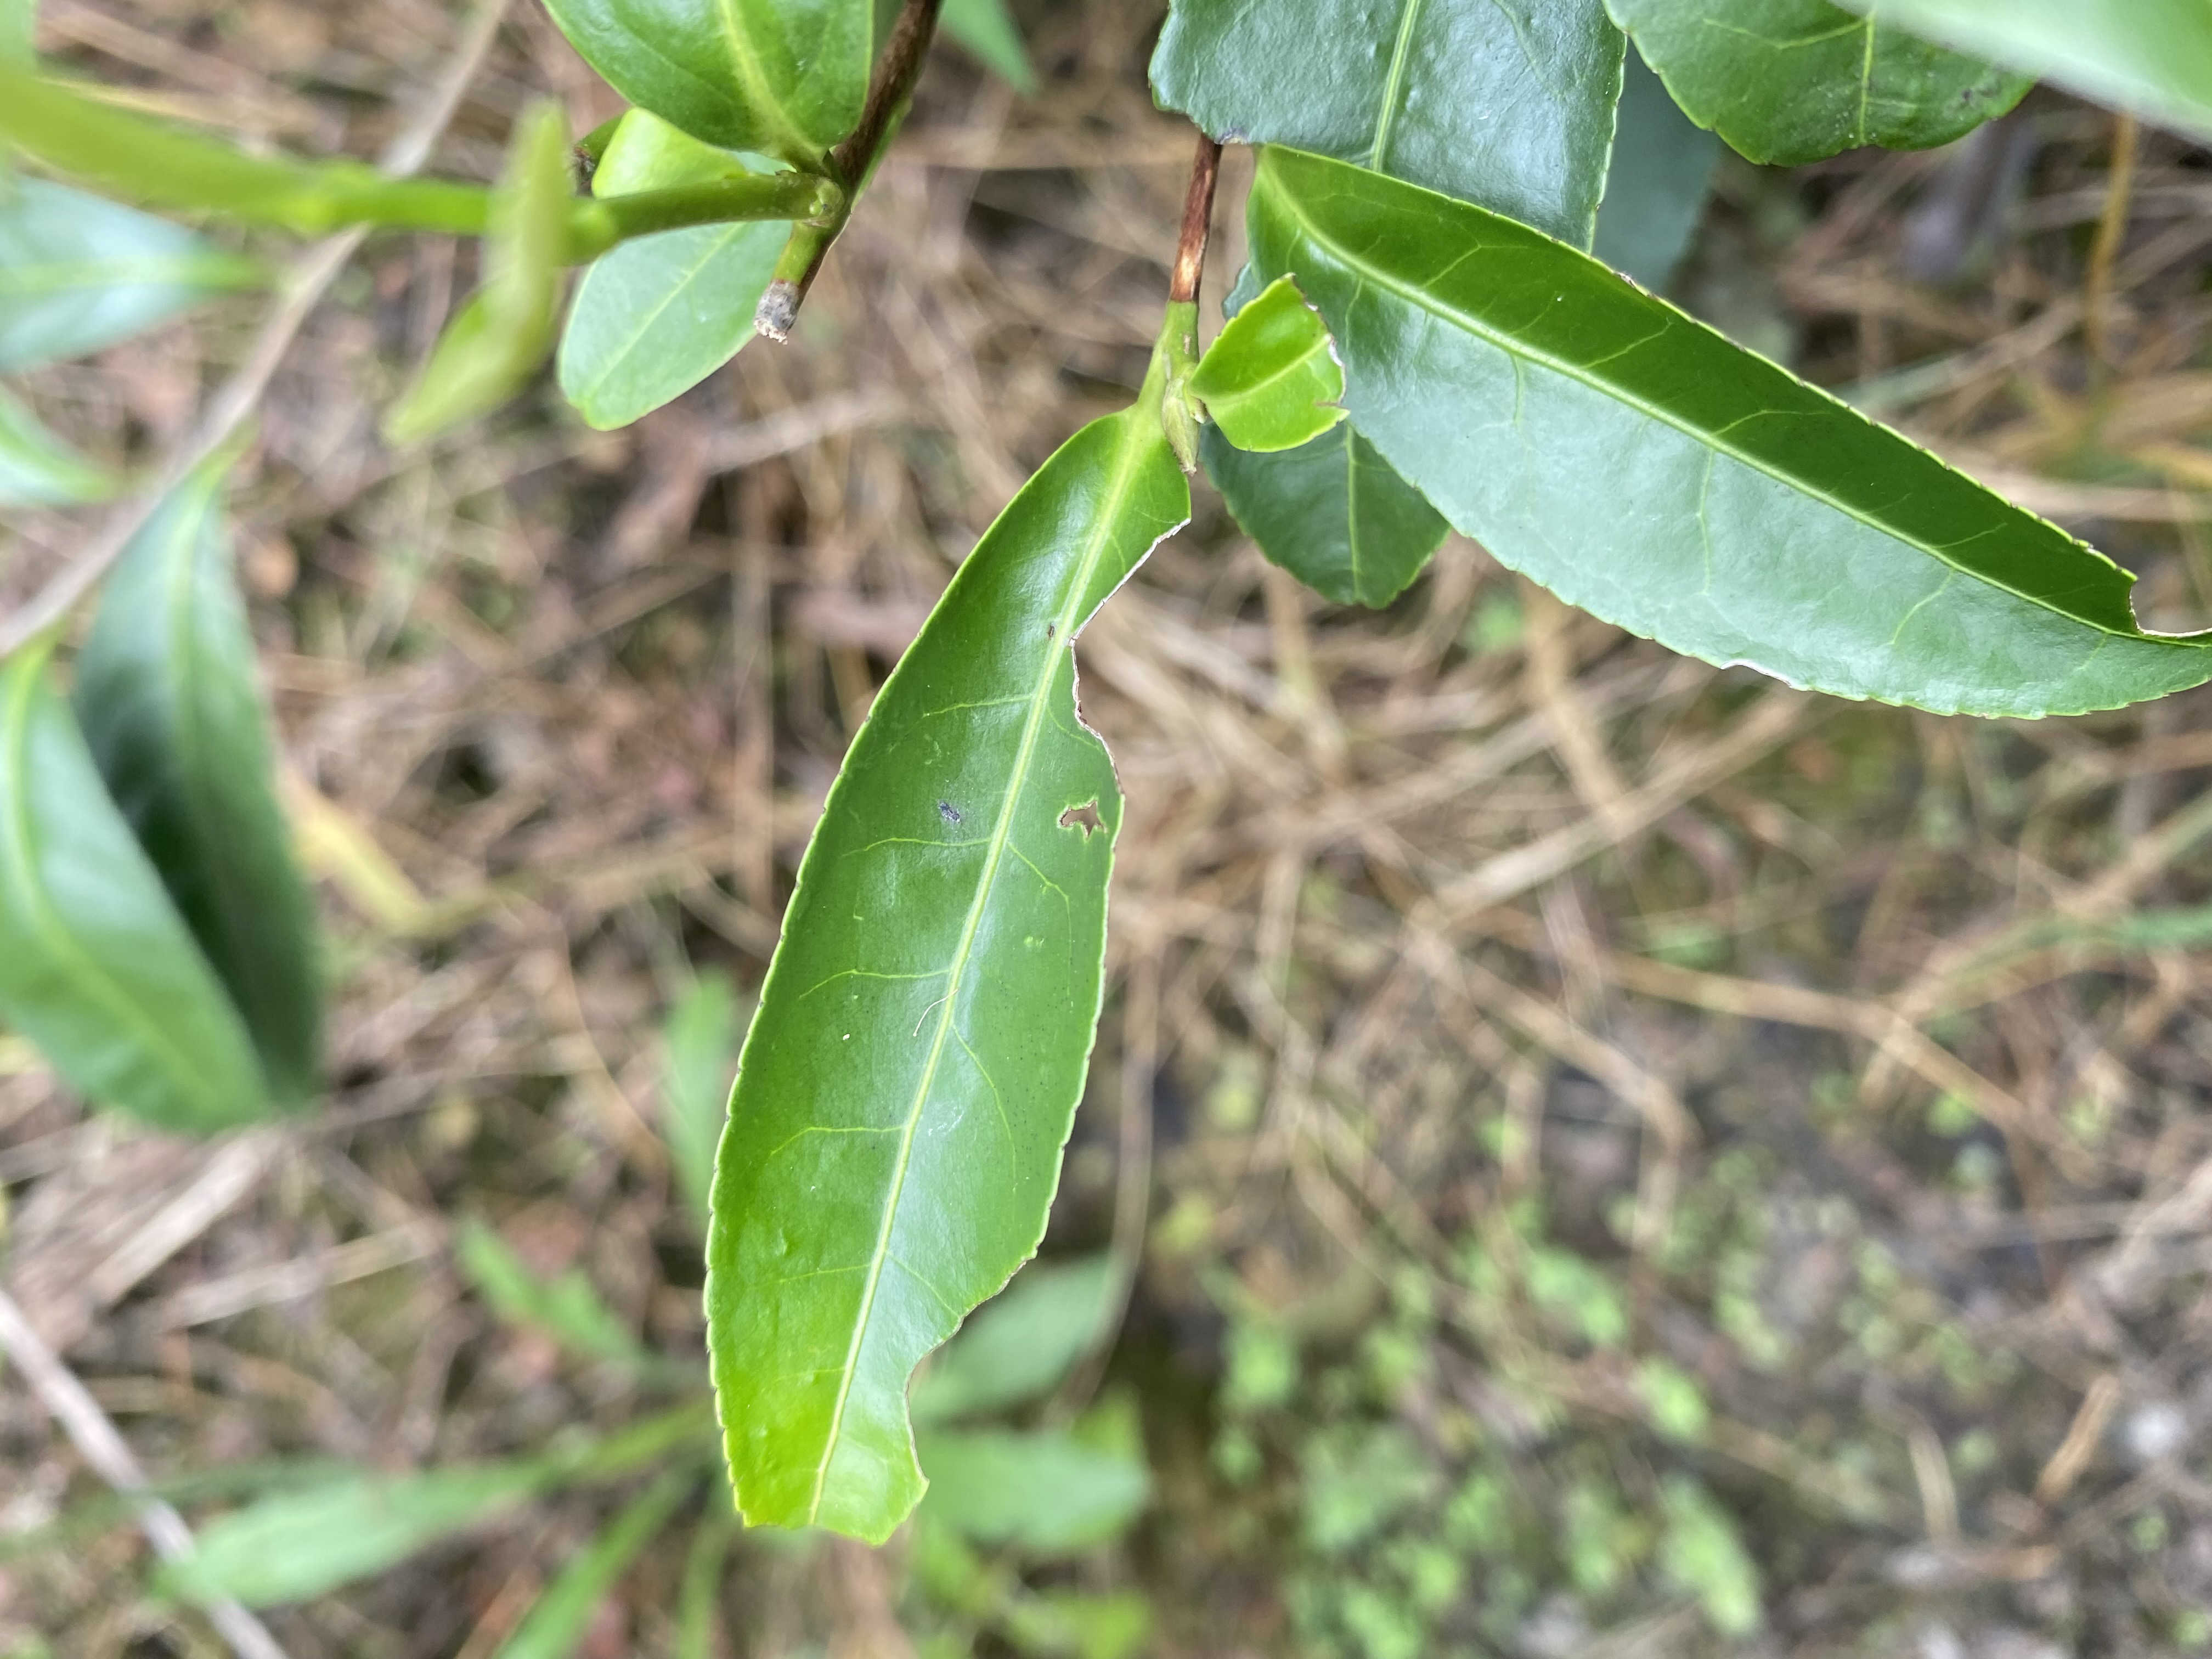chihuo_high: (700, 408, 1193, 1547), (1193, 272, 1350, 451)
chihuo_low: (1247, 138, 2210, 725)
